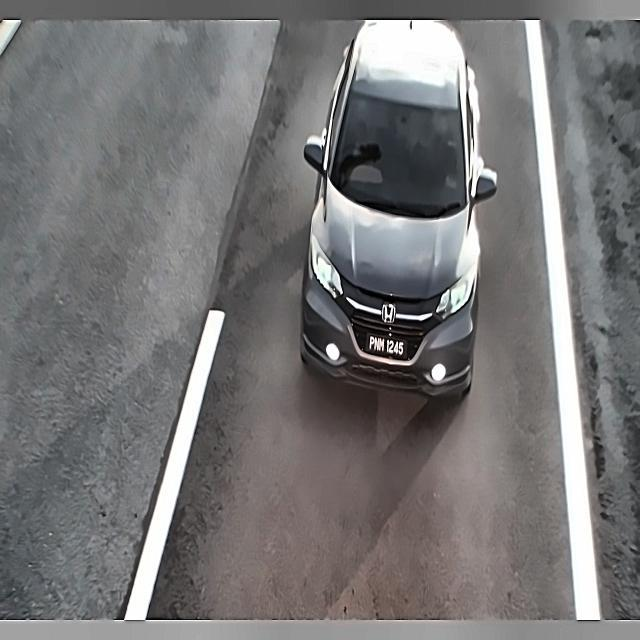car: (362, 328, 416, 365)
